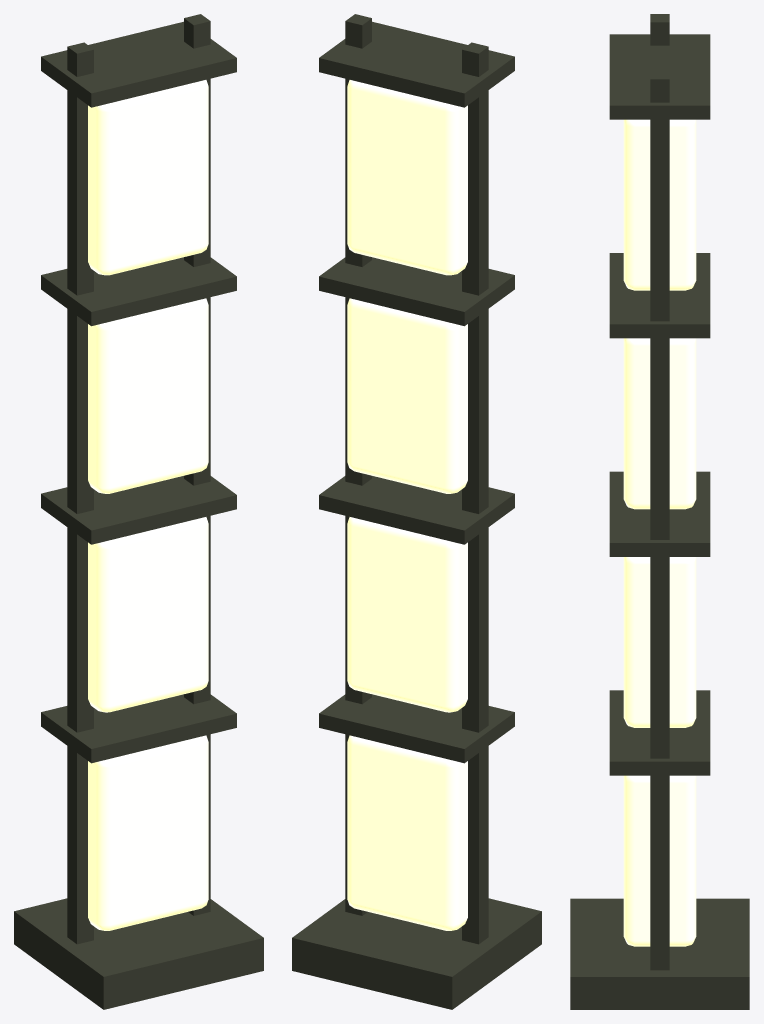
File: study_ref_floor_light.glb
3 views of the same model, side by side, from view 1: azimuth 30°, elevation 25°; view 2: azimuth 150°, elevation 25°; view 3: azimuth 270°, elevation 25° (orthographic).
Bounding box in the file's own units: 0.33 × 1.82 × 0.32.
